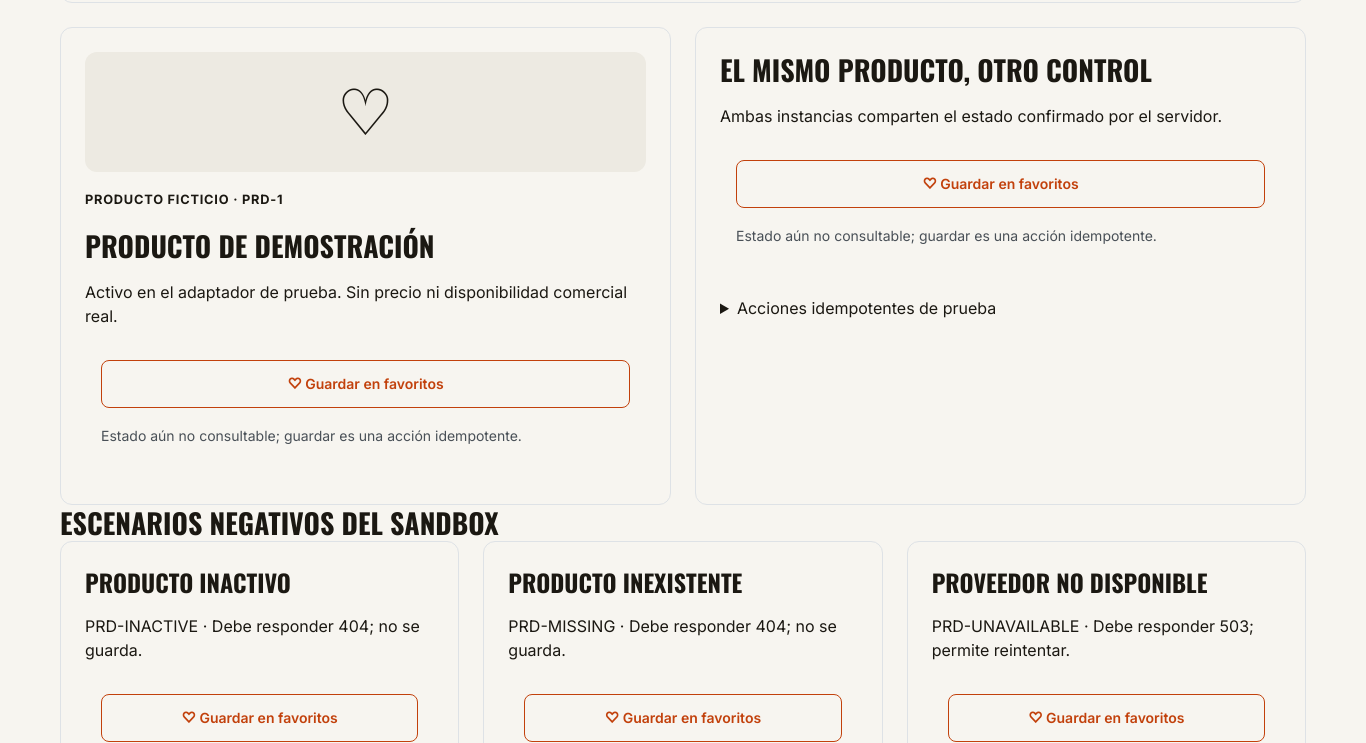
Test: keeps saved confirmation when DELETE fails and offers retry
(page scrolled)
Click the button "♡ Guardar en favoritos" below "Producto de demostración".
click(366, 384)  # box [101,360,630,408]
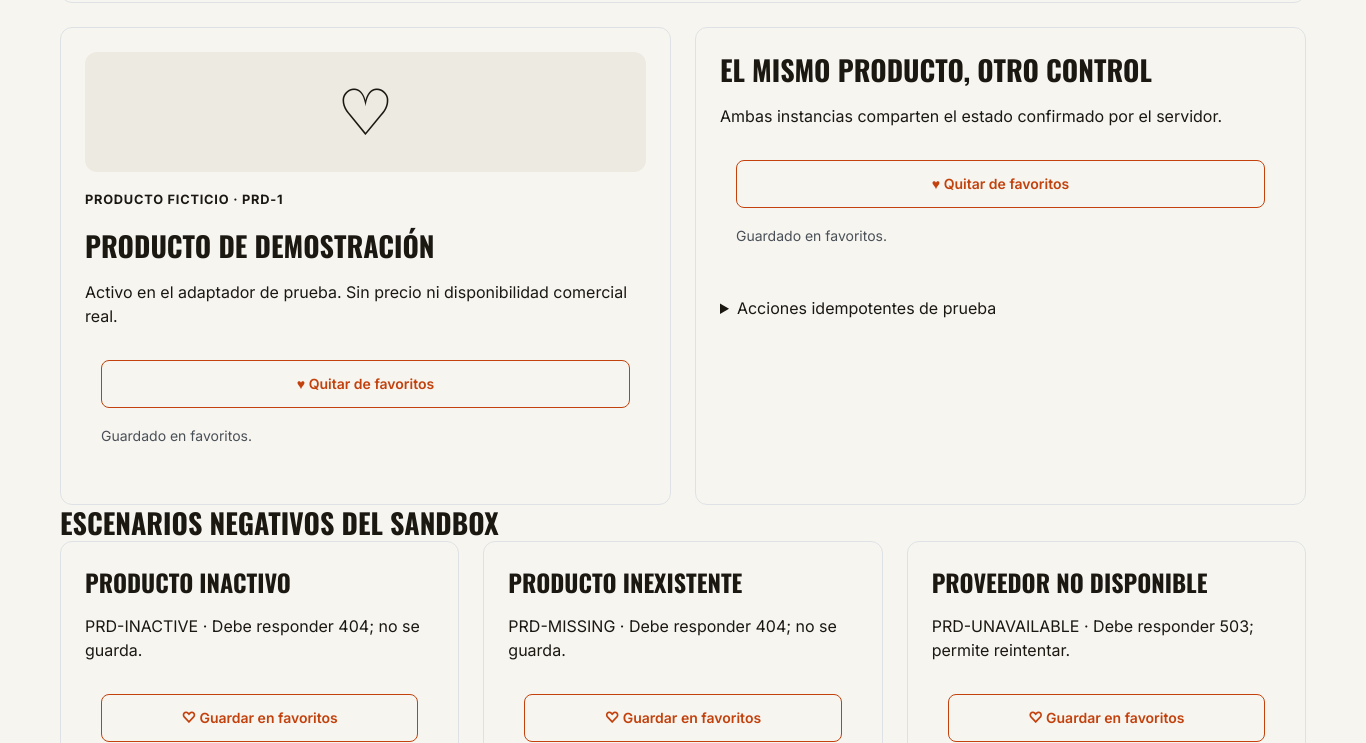
Click the button "♥ Quitar de favoritos" below "Producto de demostración".
click(366, 384)  # box [101,360,630,408]
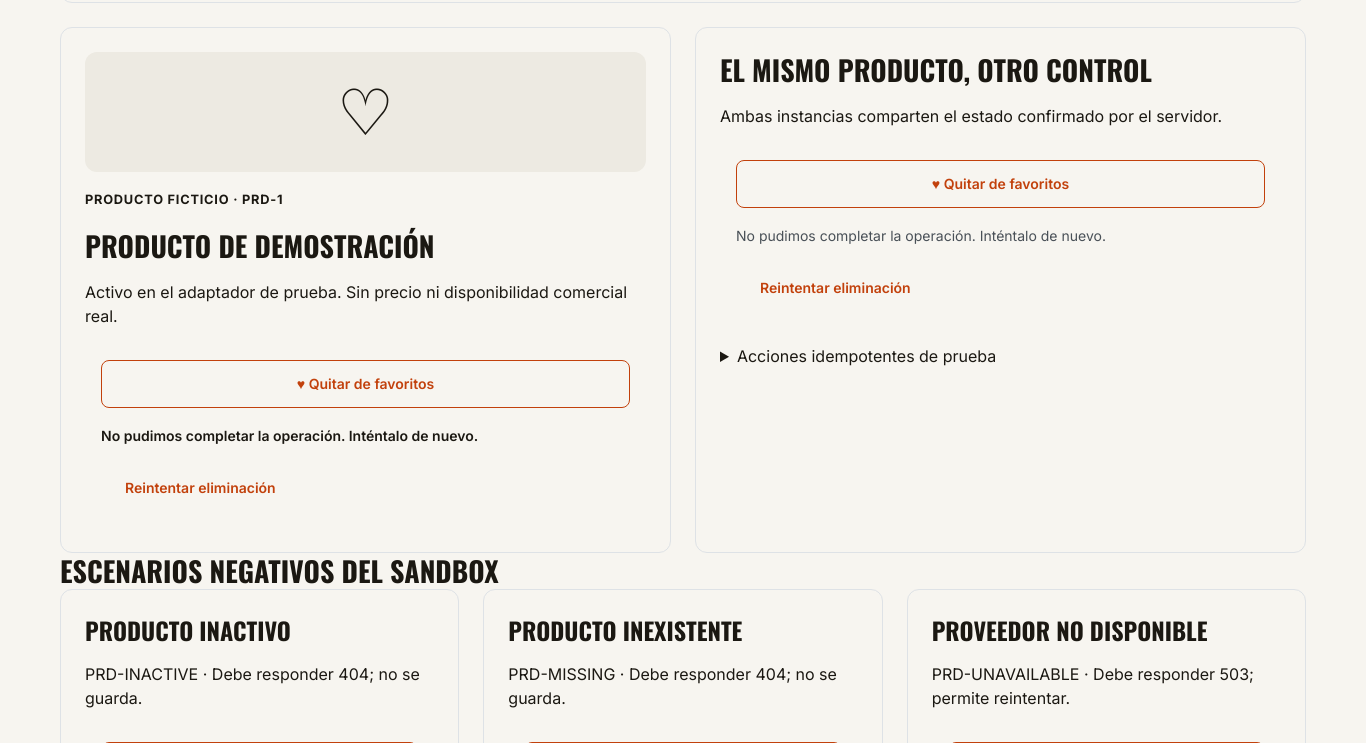
Check: the message "No pudimos completar la operación. Inténtalo de nuevo." is shown, box [101,427,478,444]
Check: the button "Reintentar eliminación" below "Producto de demostración" is shown, box [101,464,300,512]
